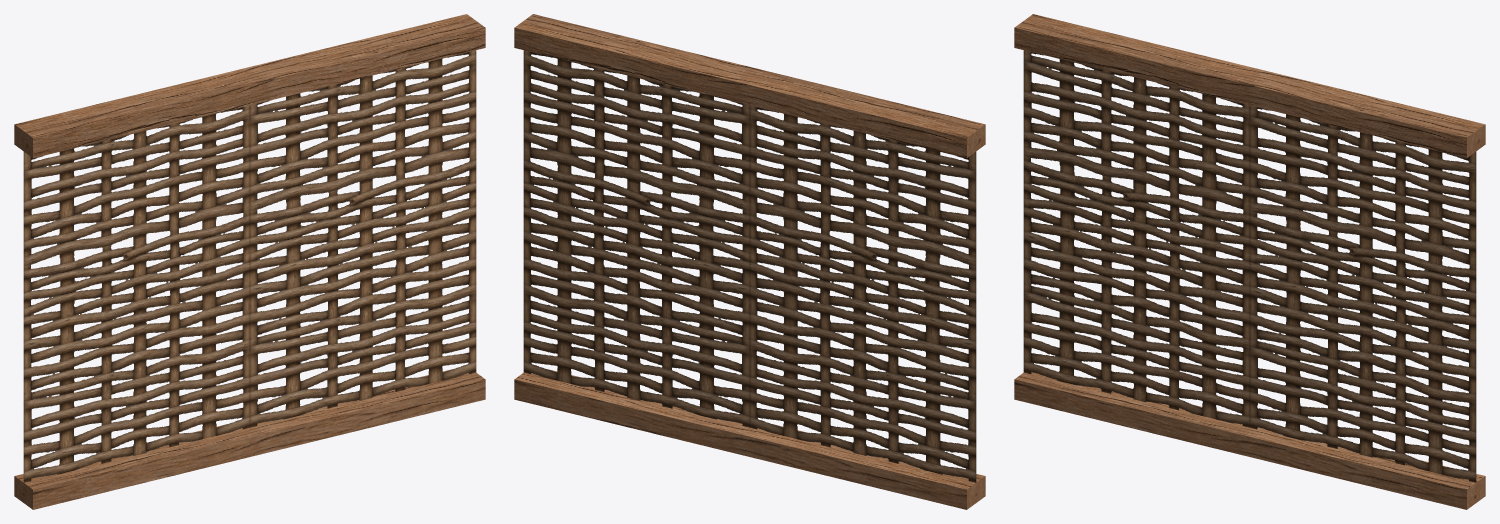
File: WattleWall_3.5Wx2.75Hx0.25D.fbx
3 renders of one model, left to right at view 1: azimuth 30°, elevation 25°; view 2: azimuth 150°, elevation 25°; view 3: azimuth 330°, elevation 25°, orthographic.
Visible parts, largest first — view 1: Wattle_Wall; view 2: Wattle_Wall; view 3: Wattle_Wall.
Boxes of the visible parts, x1,y1,x2,y2 form: Wattle_Wall: (14,14,485,509); Wattle_Wall: (514,14,985,509); Wattle_Wall: (1014,14,1485,509).
Size of the model in its own units: 3.5 by 2.75 by 0.25.
